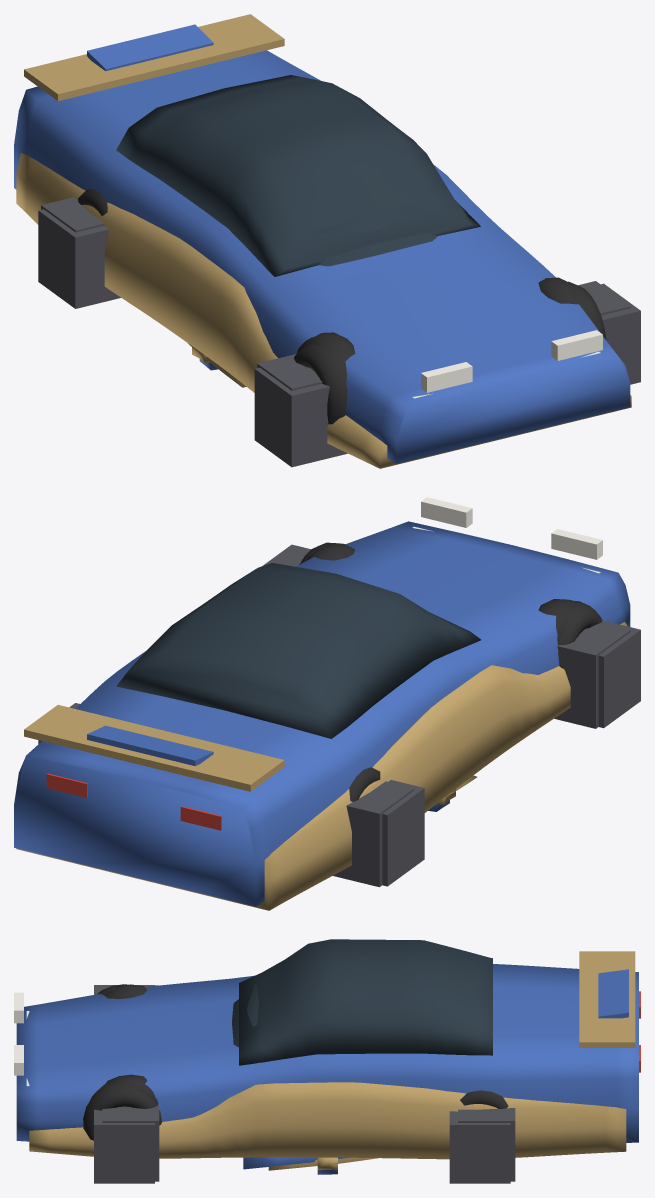
File: rivals.glb
The picture shows the model from 3 angles, top to bottom: view 1: azimuth 30°, elevation 25°; view 2: azimuth 150°, elevation 25°; view 3: azimuth 270°, elevation 25°; orthographic projection. The views are drawn at different scales.
Visible parts, largest first — view 1: warhawk_body, warhawk_glass, halberd_body, halberd_interior, halberd_spoiler, warhawk_interior, warhawk_spoiler, halberd_glass, warhawk_lights_f, halberd_wheel_fl, halberd_wheel_fr, warhawk_wheel_fl (+1 smaller); view 2: warhawk_body, warhawk_glass, halberd_body, warhawk_interior, halberd_spoiler, halberd_interior, warhawk_lights_f, warhawk_spoiler, warhawk_lights_r, halberd_wheel_fl, warhawk_wheel_fl, halberd_wheel_rl; view 3: warhawk_body, halberd_body, warhawk_glass, halberd_interior, halberd_spoiler, warhawk_interior, halberd_wheel_fr, warhawk_spoiler, warhawk_hood, halberd_glass, warhawk_lights_f, halberd_wheel_rr (+3 smaller).
Part boxes in pixels (left/top/right/bottom): warhawk_body: left=14, top=50, right=630, bottom=463; warhawk_glass: left=116, top=75, right=480, bottom=276; halberd_body: left=16, top=153, right=631, bottom=468; halberd_interior: left=38, top=209, right=640, bottom=467; halberd_spoiler: left=24, top=14, right=284, bottom=100; warhawk_interior: left=41, top=197, right=630, bottom=390; warhawk_spoiler: left=87, top=24, right=213, bottom=71; halberd_glass: left=316, top=206, right=437, bottom=266; warhawk_lights_f: left=421, top=330, right=602, bottom=392; halberd_wheel_fl: left=294, top=344, right=349, bottom=424; halberd_wheel_fr: left=568, top=281, right=606, bottom=339; warhawk_wheel_fl: left=297, top=332, right=355, bottom=356; warhawk_body: left=14, top=521, right=630, bottom=906; warhawk_glass: left=116, top=563, right=480, bottom=738; halberd_body: left=16, top=621, right=627, bottom=910; warhawk_interior: left=41, top=547, right=630, bottom=887; halberd_spoiler: left=24, top=705, right=284, bottom=791; halberd_interior: left=38, top=544, right=640, bottom=886; warhawk_lights_f: left=421, top=497, right=602, bottom=559; warhawk_spoiler: left=87, top=725, right=213, bottom=765; warhawk_lights_r: left=46, top=773, right=221, bottom=830; halberd_wheel_fl: left=558, top=600, right=602, bottom=668; warhawk_wheel_fl: left=538, top=599, right=574, bottom=644; halberd_wheel_rl: left=349, top=767, right=380, bottom=801; warhawk_body: left=16, top=964, right=638, bottom=1142; halberd_body: left=29, top=1082, right=626, bottom=1159; warhawk_glass: left=239, top=939, right=492, bottom=1065; halberd_interior: left=94, top=985, right=510, bottom=1183; halberd_spoiler: left=579, top=951, right=635, bottom=1047; warhawk_interior: left=102, top=985, right=515, bottom=1181; halberd_wheel_fr: left=83, top=1082, right=161, bottom=1140; warhawk_spoiler: left=598, top=969, right=628, bottom=1018; warhawk_hood: left=243, top=1157, right=349, bottom=1169; halberd_glass: left=232, top=983, right=258, bottom=1047; warhawk_lights_f: left=14, top=992, right=23, bottom=1075; halberd_wheel_rr: left=460, top=1090, right=508, bottom=1108.
Size of the model in its own units: 2.61 by 1.49 by 4.93.
